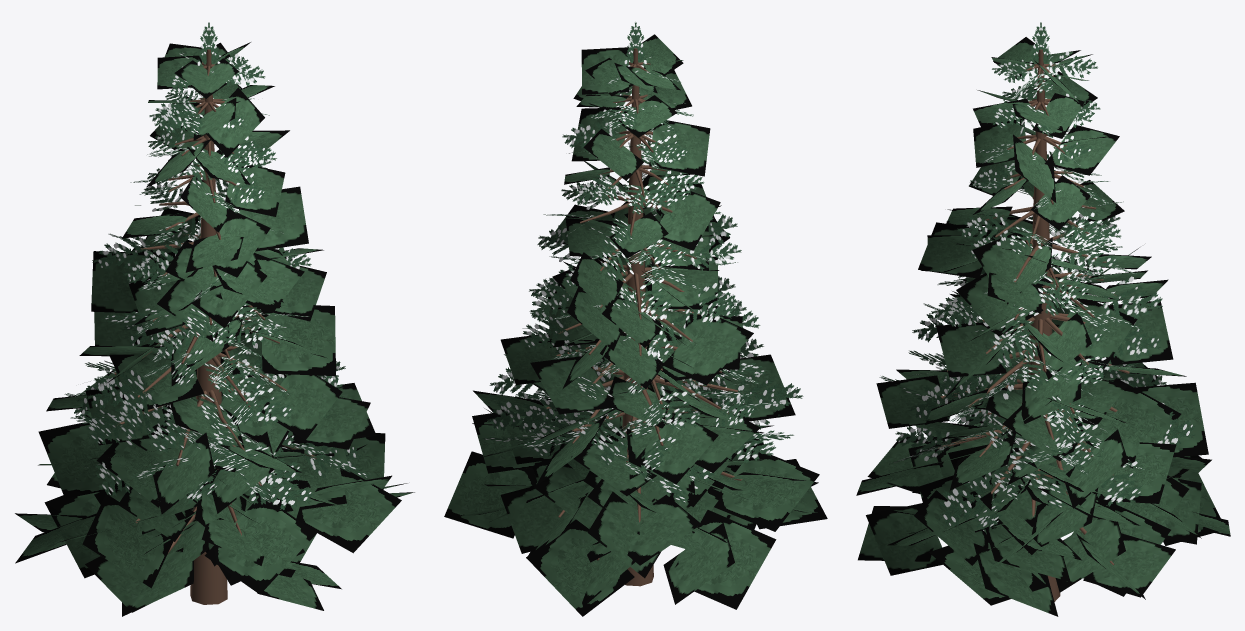
Rendered from snow_pine_1.glb.
3 renders of one model, left to right at view 1: azimuth 30°, elevation 25°; view 2: azimuth 150°, elevation 25°; view 3: azimuth 270°, elevation 25°, orthographic. The views are drawn at different scales.
Parts seen in each view (by area): view 1: snow_pine_1; view 2: snow_pine_1; view 3: snow_pine_1.
Boxes of the visible parts, <box> form: snow_pine_1: <box>15,22,414,616</box>; snow_pine_1: <box>444,22,827,616</box>; snow_pine_1: <box>856,22,1230,616</box>.
Bounding box in the file's own units: 6.47 × 10.43 × 6.16.
Materials: 3 (2 with a texture image).
